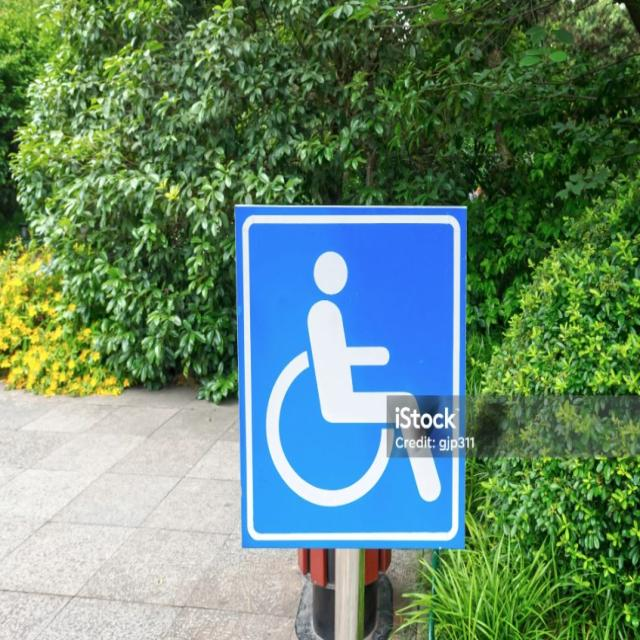symbol_of_access: (230, 200, 470, 552)
